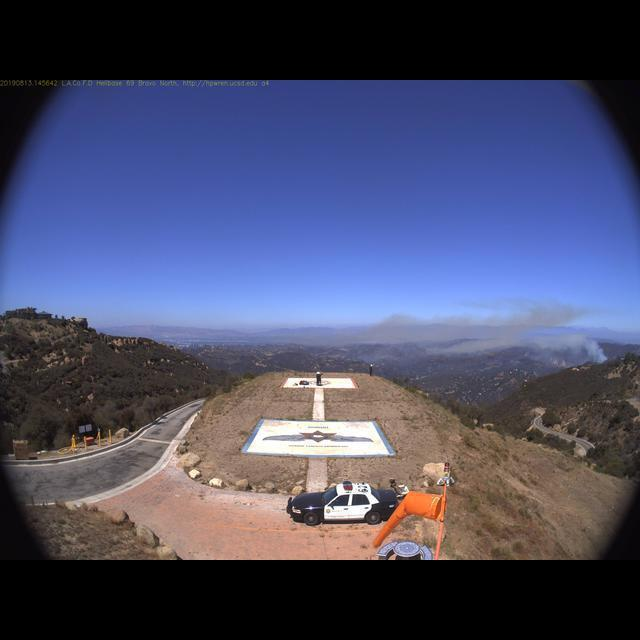Smoke: (429, 308, 605, 368)
